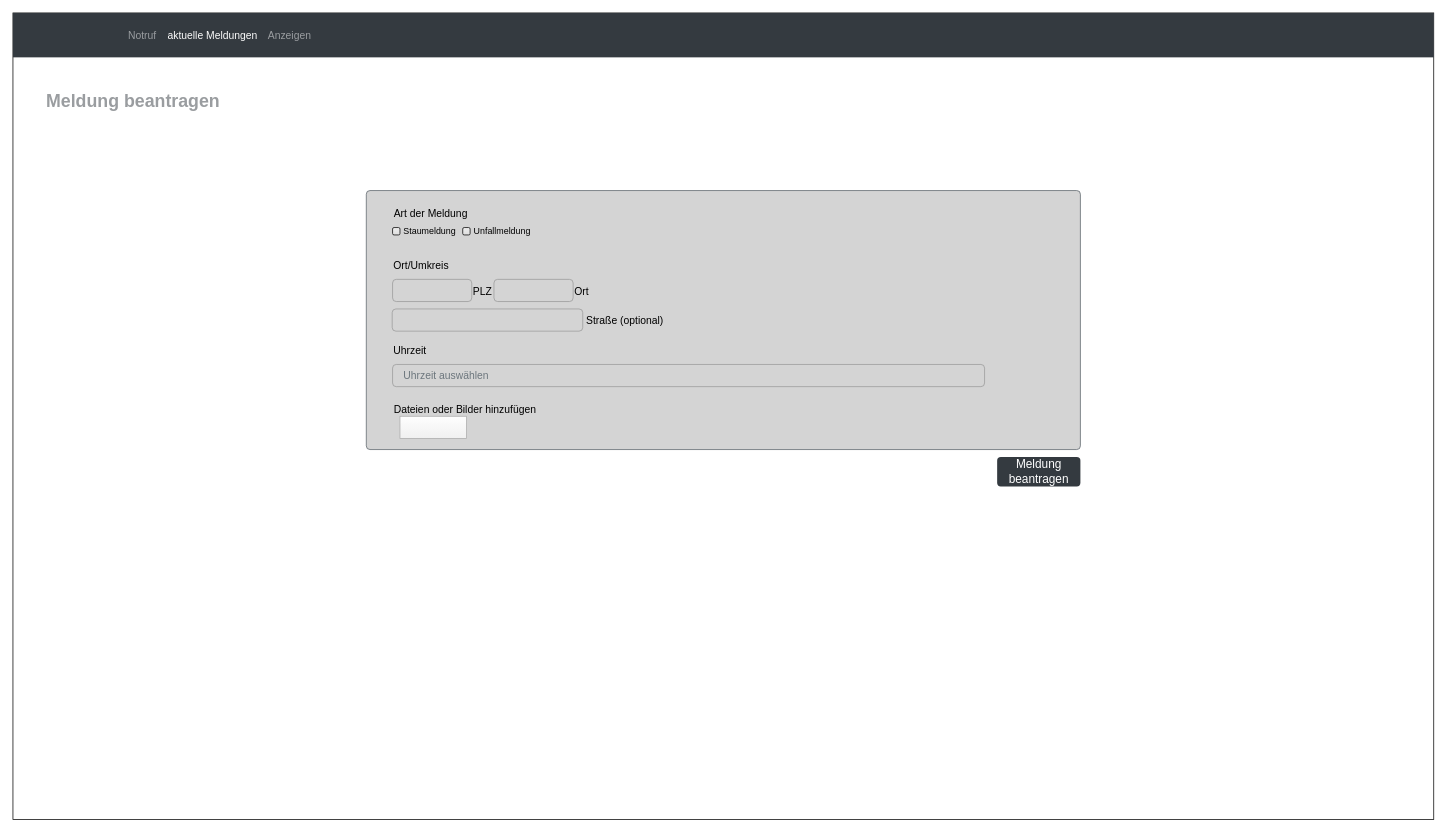
Some shapes in this 1447 by 833 pixel diagram are drawn without their labels. Here are the shapes that lost their labels. From the top down, the centre of each, then its label:
(723,35): POLIZEI
(433,427): auswählen...
